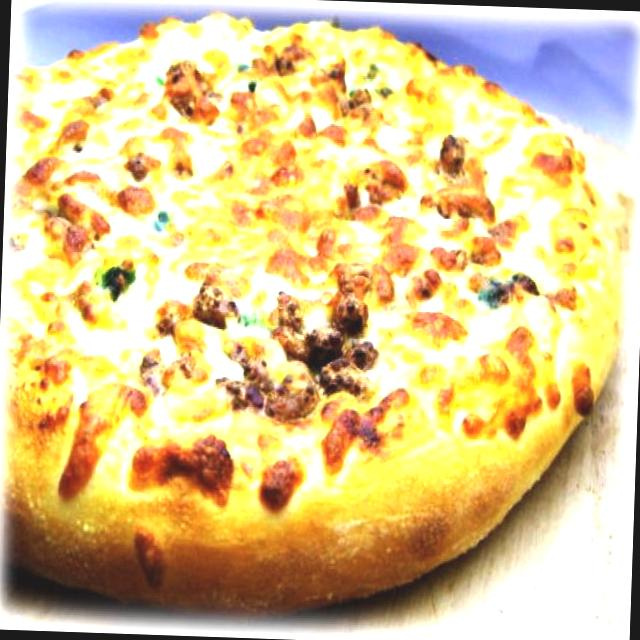Pizza: (2, 4, 635, 614)
